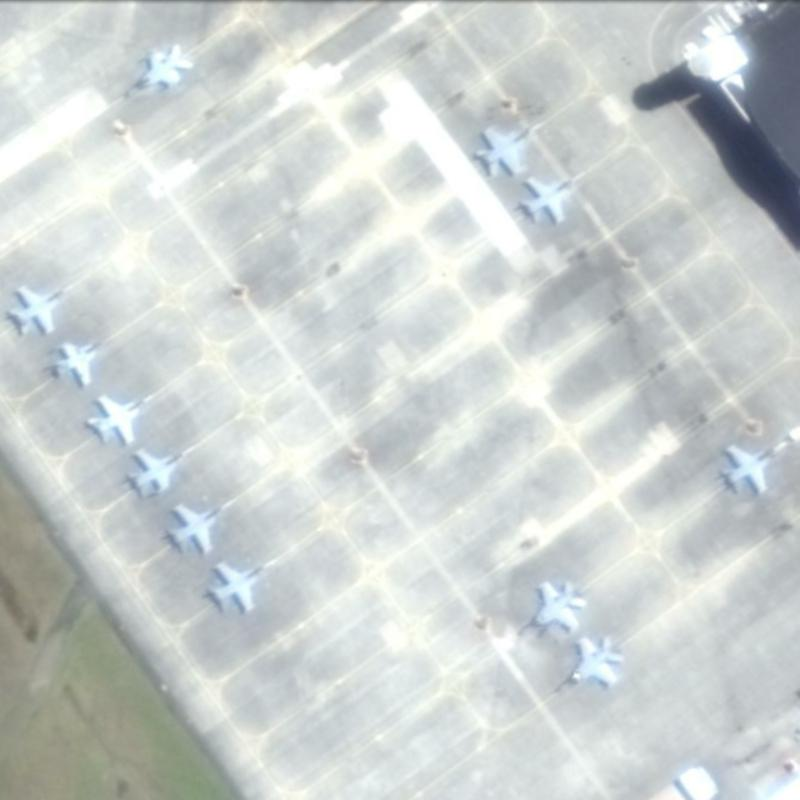A16: (119, 36, 196, 103), (470, 112, 547, 178), (716, 433, 792, 498), (162, 493, 239, 556), (203, 554, 281, 616), (512, 164, 588, 226), (552, 632, 624, 695), (517, 573, 588, 636), (2, 280, 77, 338), (83, 386, 156, 445), (124, 441, 196, 499), (48, 336, 112, 385)
